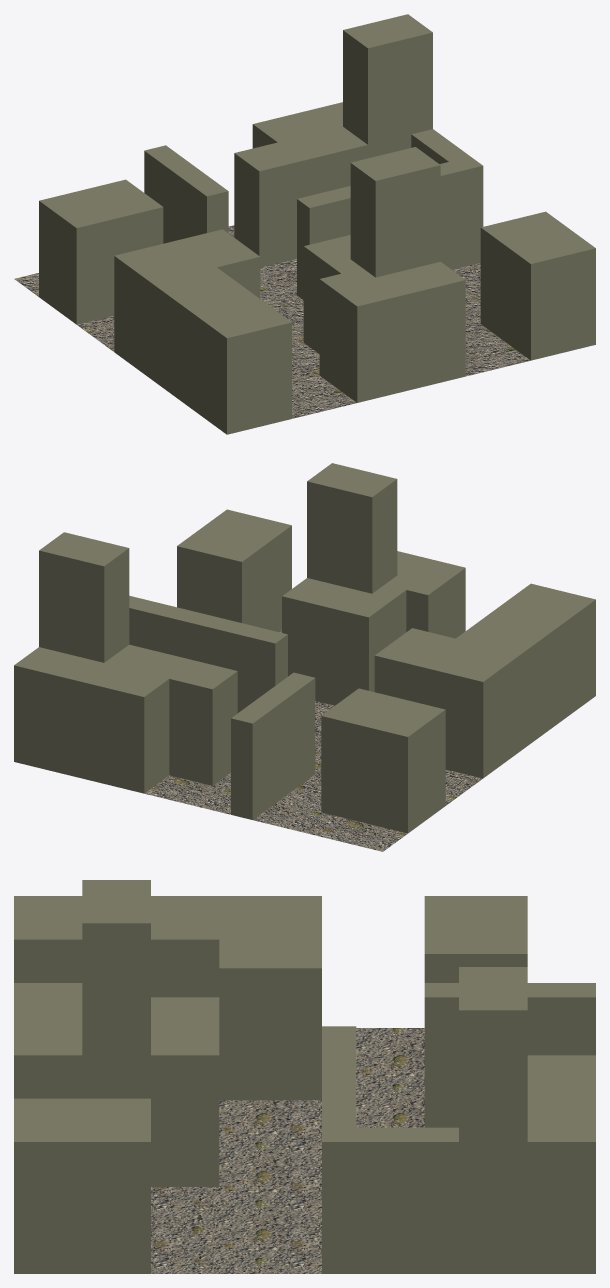
The model's file is tile1.fbx.
The picture shows the model from 3 angles, top to bottom: view 1: azimuth 30°, elevation 25°; view 2: azimuth 150°, elevation 25°; view 3: azimuth 270°, elevation 25°; orthographic projection. The views are drawn at different scales.
Parts seen in each view (by area): view 1: Tile1; view 2: Tile1; view 3: Tile1.
Part boxes in pixels (x1,y1,x2,y2): Tile1: (14, 14, 595, 434); Tile1: (14, 463, 595, 851); Tile1: (14, 880, 595, 1273).
Size of the model in its own units: 1600 by 800 by 1600.
